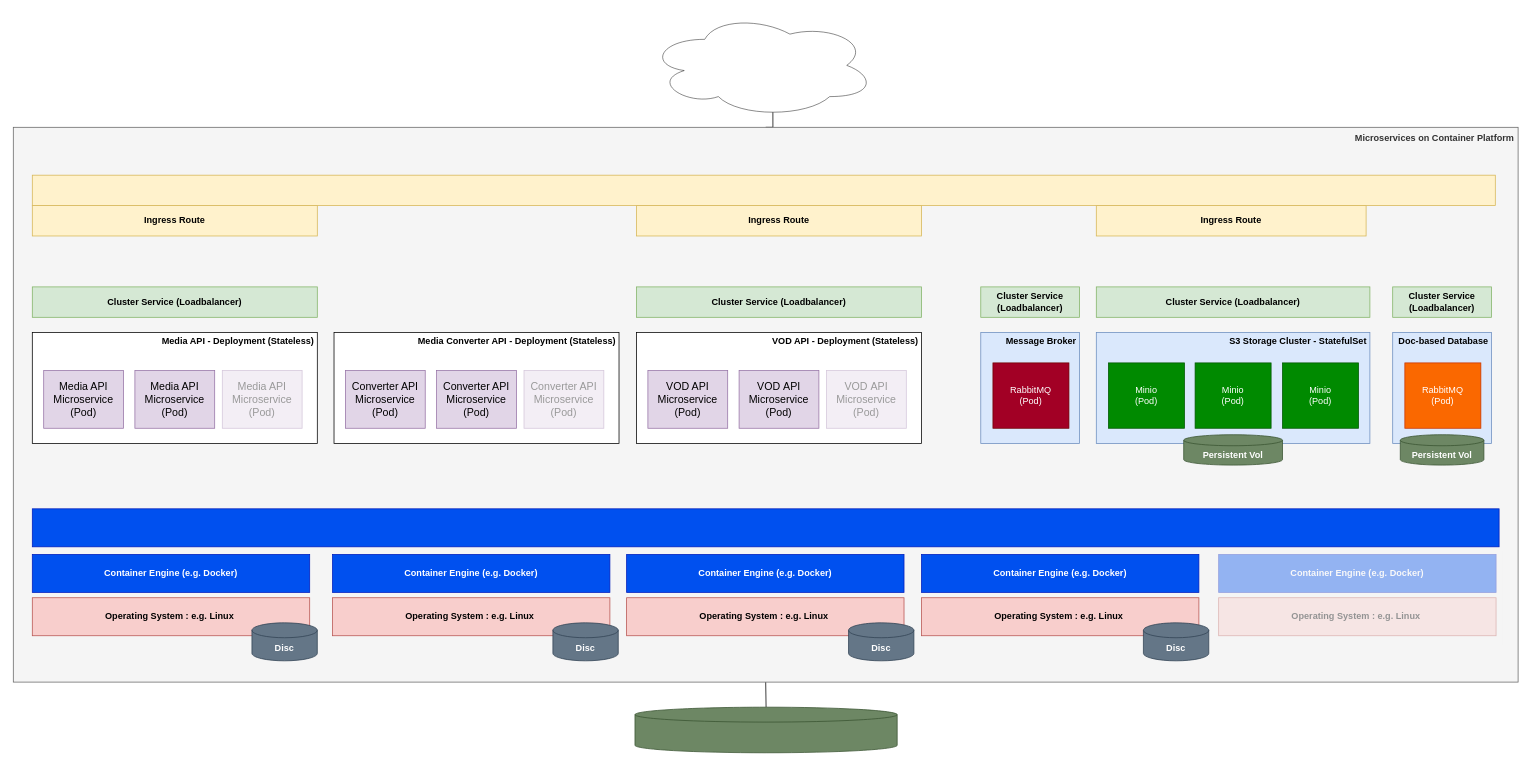
This 1531x766 diagram has some shape labels left out. Each missing label, with the centre of its shape:
Central Storage: point 765,729
Container Orchestrator (Kubernetes): point 765,527
Ingress Controller (Nginx Reverse Proxy): point 763,190
Intranet / Internet: point 761,65
